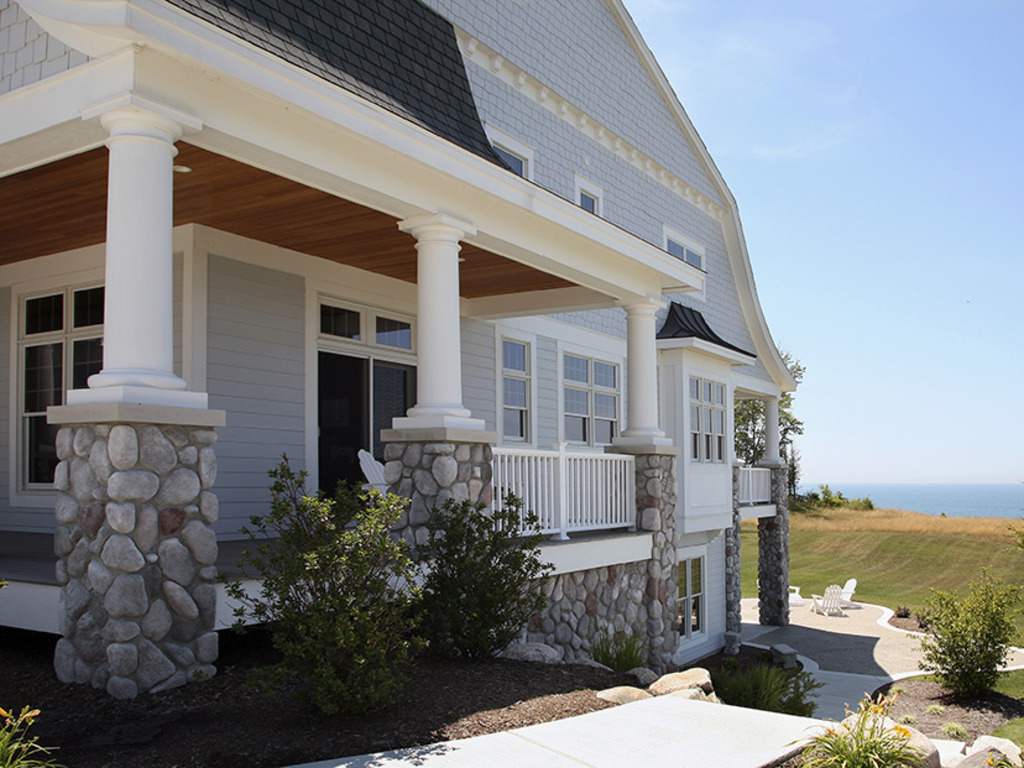door: (318, 335, 432, 527)
window: (21, 286, 110, 490), (556, 336, 646, 447), (314, 290, 437, 354), (499, 322, 549, 438), (667, 548, 723, 645), (689, 371, 743, 467)
